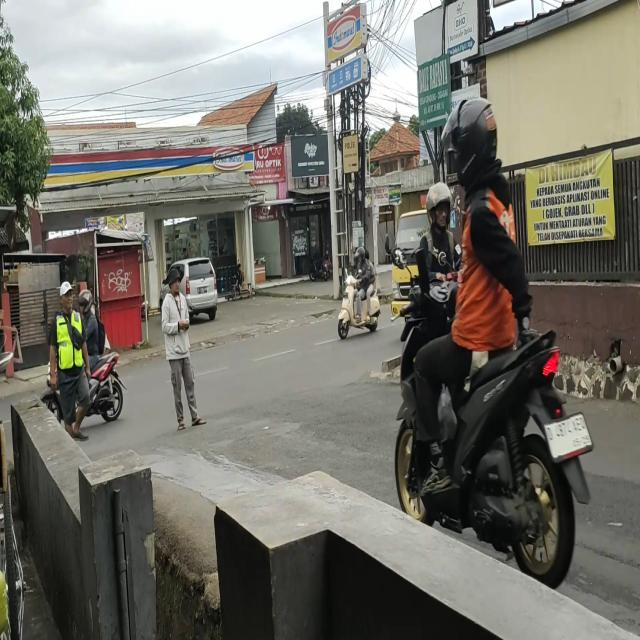helmet: (451, 95, 498, 185), (428, 183, 452, 231), (79, 284, 95, 318), (356, 248, 365, 262)
